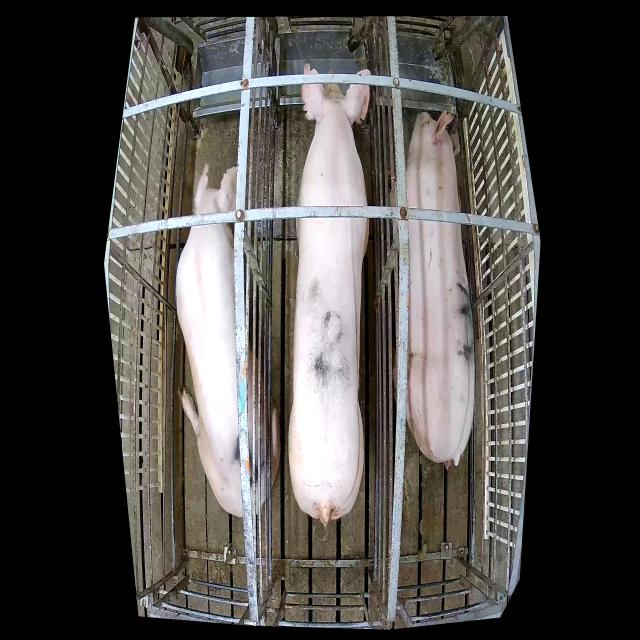pig: (288, 65, 370, 529), (175, 164, 280, 516), (389, 106, 475, 470)
